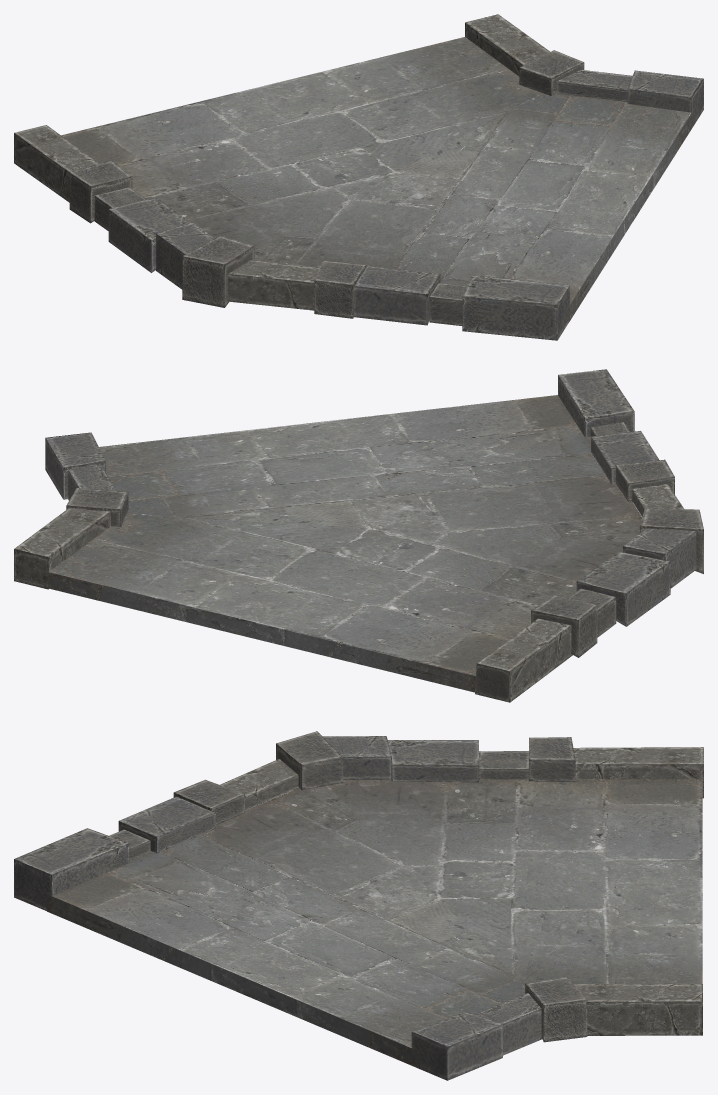
The model's file is bg_lut_lucastle_street04_sm_phs.FBX.
The picture shows the model from 3 angles, top to bottom: view 1: azimuth 30°, elevation 25°; view 2: azimuth 150°, elevation 25°; view 3: azimuth 270°, elevation 25°; orthographic projection. The views are drawn at different scales.
Parts seen in each view (by area): view 1: bg_lut_lucastle_street04_sm_phs; view 2: bg_lut_lucastle_street04_sm_phs; view 3: bg_lut_lucastle_street04_sm_phs.
Boxes of the visible parts, x1,y1,x2,y2 form: bg_lut_lucastle_street04_sm_phs: [14, 14, 703, 340]; bg_lut_lucastle_street04_sm_phs: [14, 369, 703, 702]; bg_lut_lucastle_street04_sm_phs: [14, 731, 703, 1080].
Bounding box in the file's own units: 465 × 33.2 × 441.
